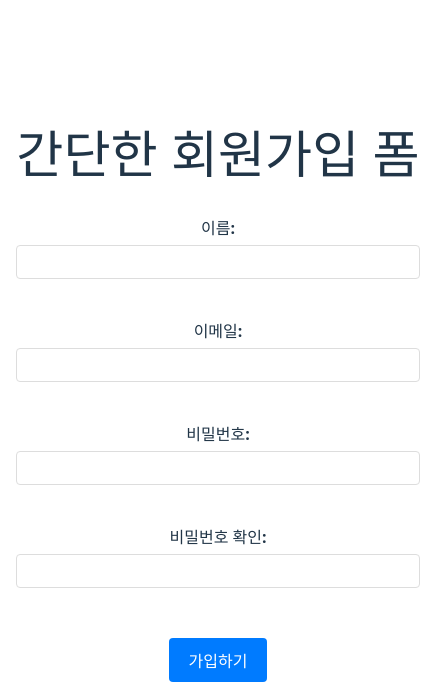
Test case: RegistrationForm › 폼 제출 › 모든 필드가 유효할 때 성공 메시지를 표시한다
The image size is (437, 699).
Type "김철수" into the field labelled "이름:" at coordinates (218, 262), box [16,245,420,279]
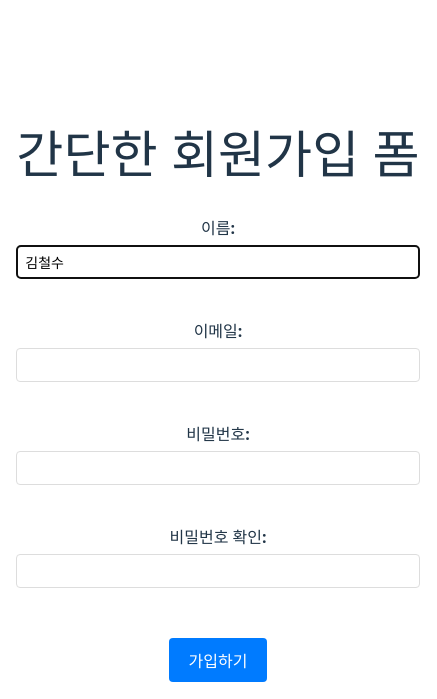
Type "test@example.com" into the field labelled "이메일:" at coordinates (218, 365), box [16,348,420,382]
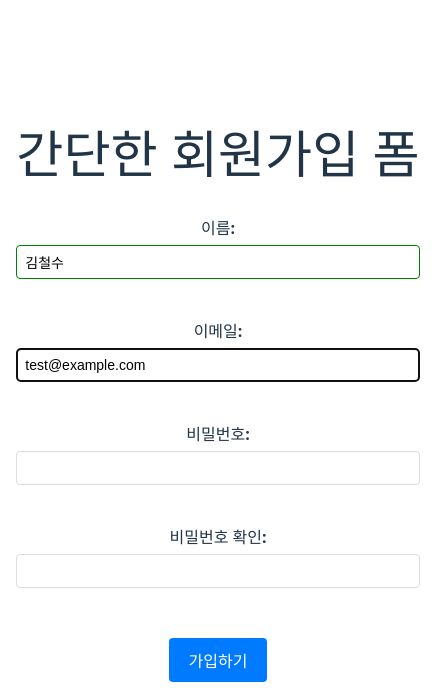
Type "Password123!" into the password field labelled "비밀번호:" at coordinates (218, 468), box [16,451,420,485]
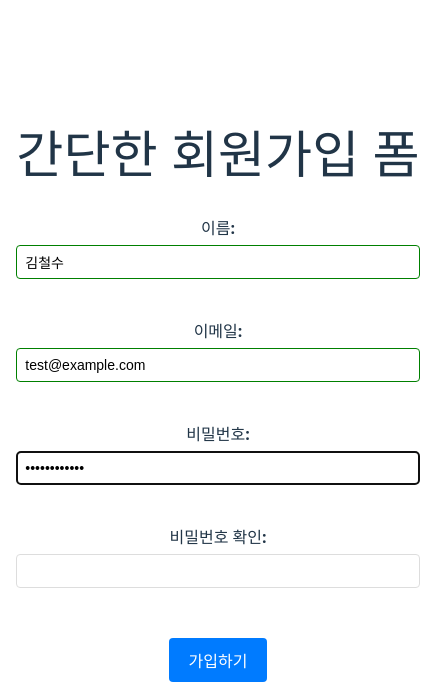
Type "Password123!" into the password field labelled "비밀번호 확인:" at coordinates (218, 571), box [16,554,420,588]
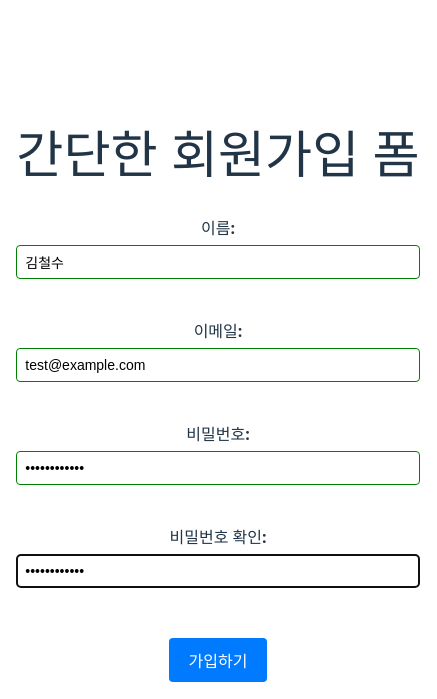
Click the button "가입하기" at coordinates (218, 660), box [168,638,267,682]
(page scrolled)
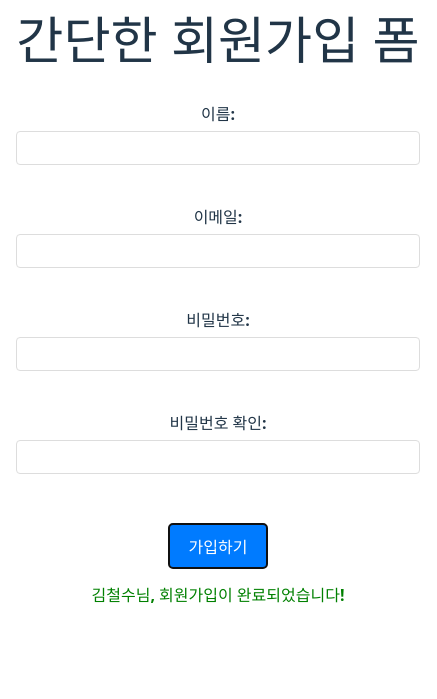
expect the text with test id "success-message" reads "김철수님, 회원가입이 완료되었습니다!": met, box [92,584,344,606]
